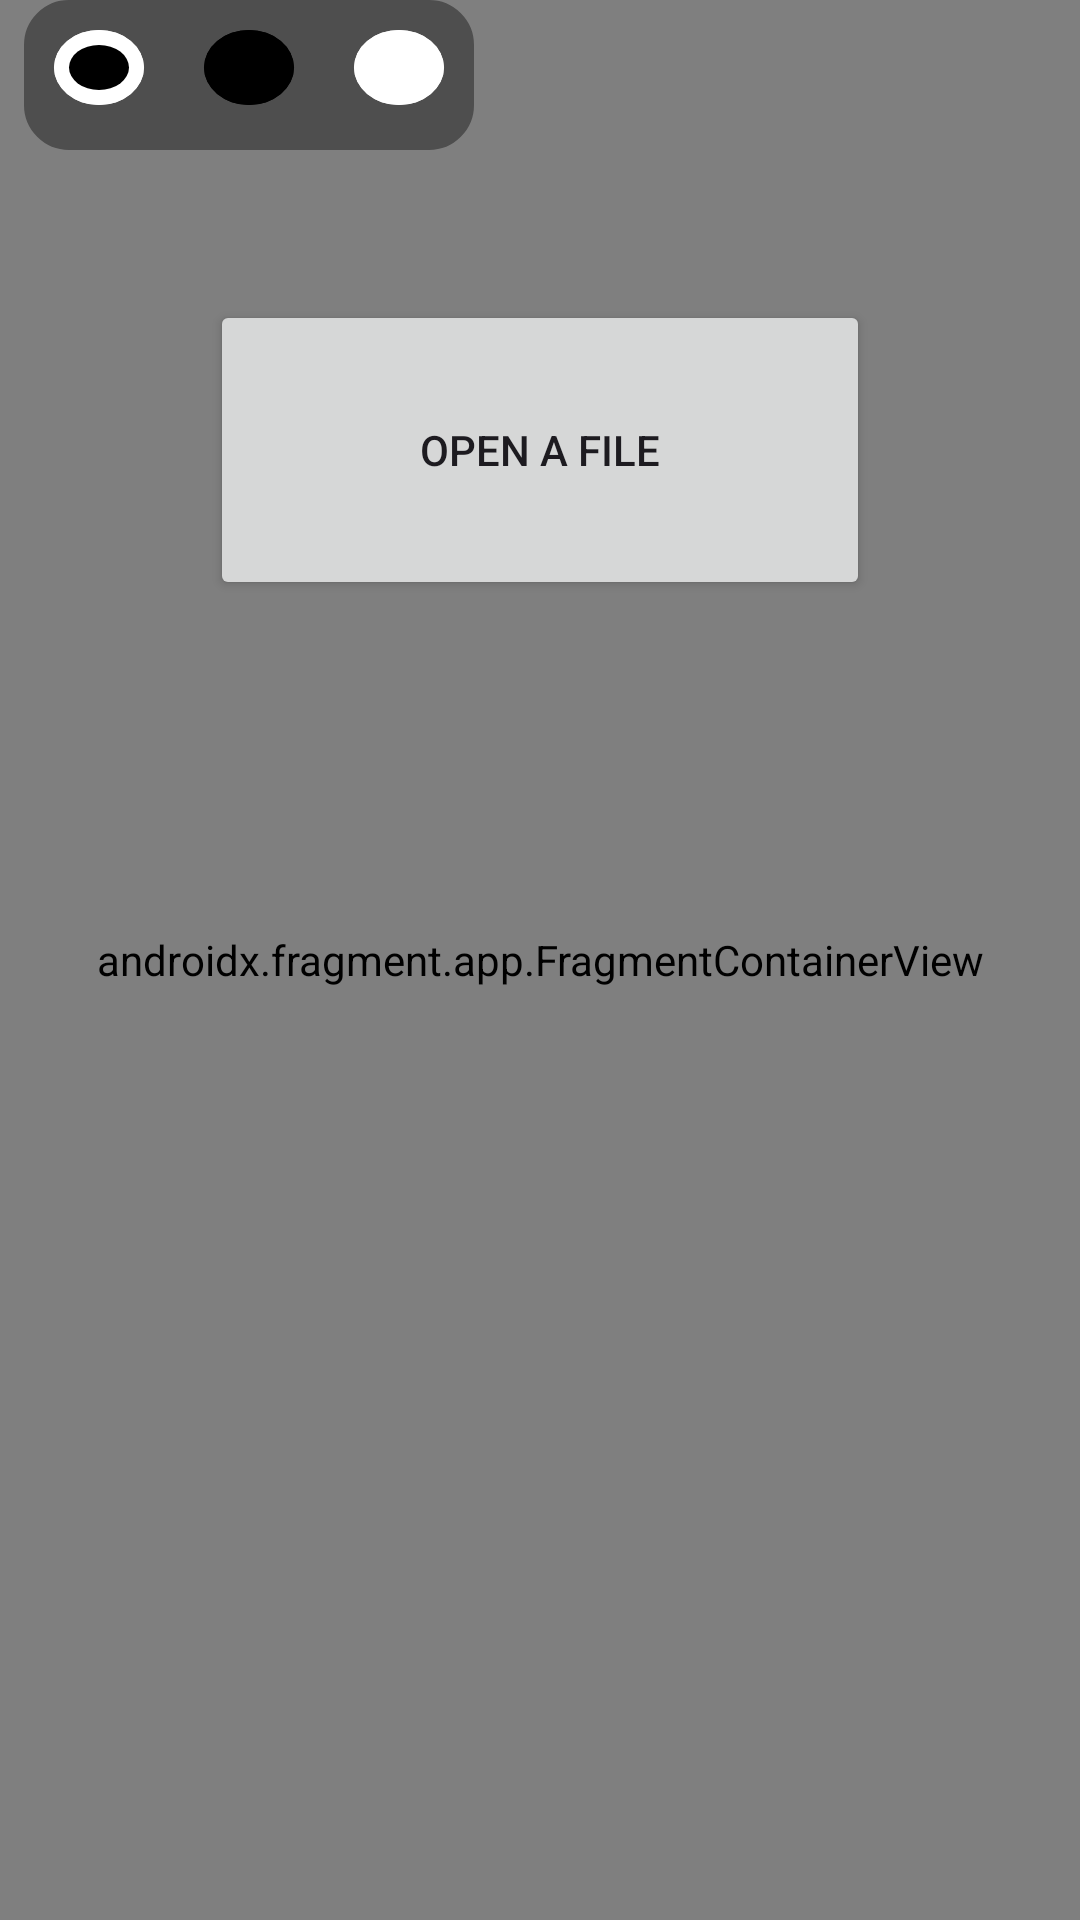

Point at icon controls on the screen. Image size 1080 x 1920, points as point (x, y).
blackandwhite: point (99, 67)
